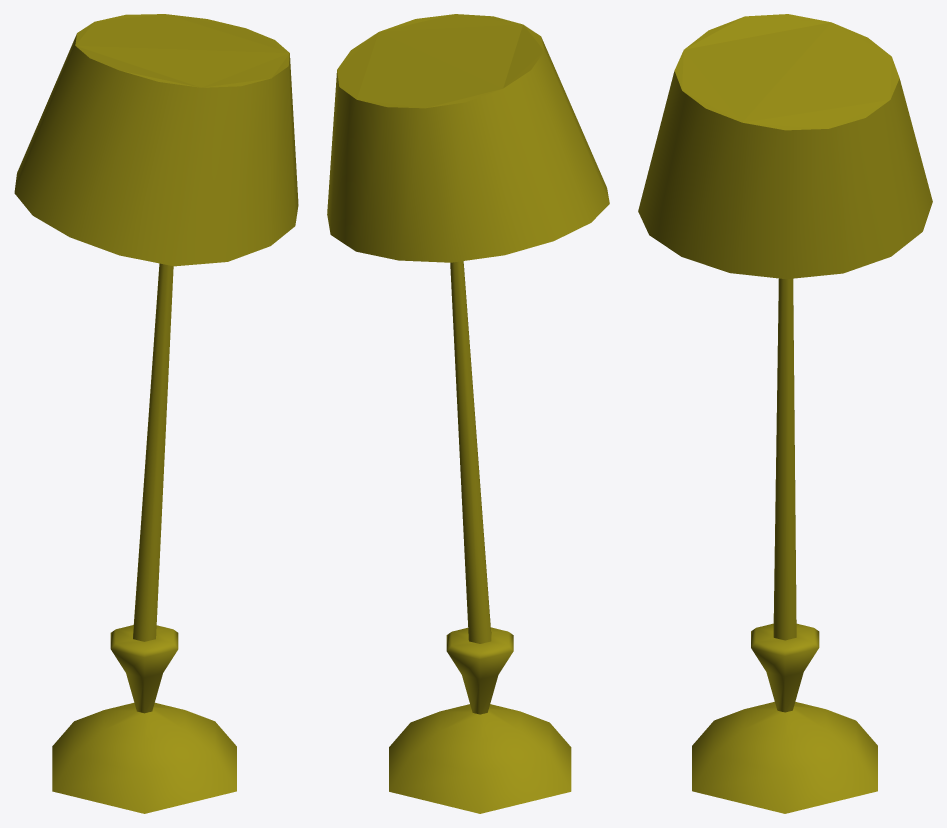
The model's file is FloorLamp.FBX.
3 views of the same model, side by side, from view 1: azimuth 30°, elevation 25°; view 2: azimuth 150°, elevation 25°; view 3: azimuth 270°, elevation 25° (orthographic). The views are drawn at different scales.
Visible parts, largest first — view 1: FloorLamp; view 2: FloorLamp; view 3: FloorLamp.
Part boxes in pixels (x1,y1,x2,y2): FloorLamp: [14, 14, 298, 813]; FloorLamp: [327, 14, 609, 813]; FloorLamp: [638, 14, 932, 813].
Bounding box in the file's own units: 76.98 × 215 × 78.61.
